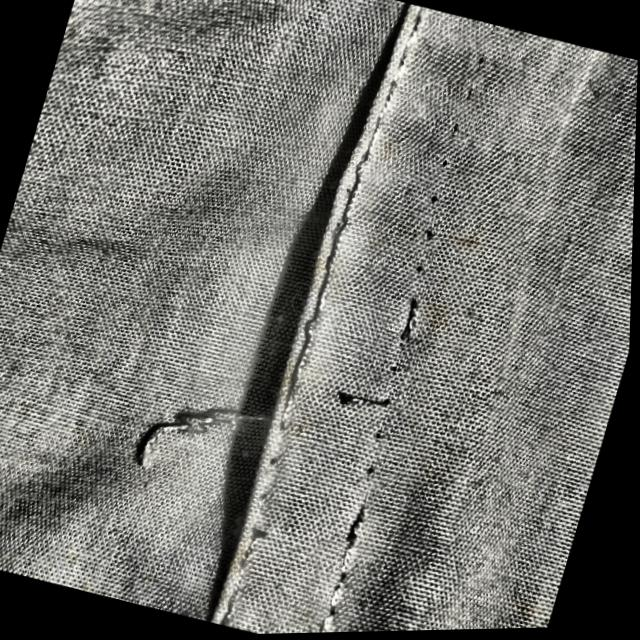Stitch: (109, 332, 325, 518), (323, 375, 414, 438)
